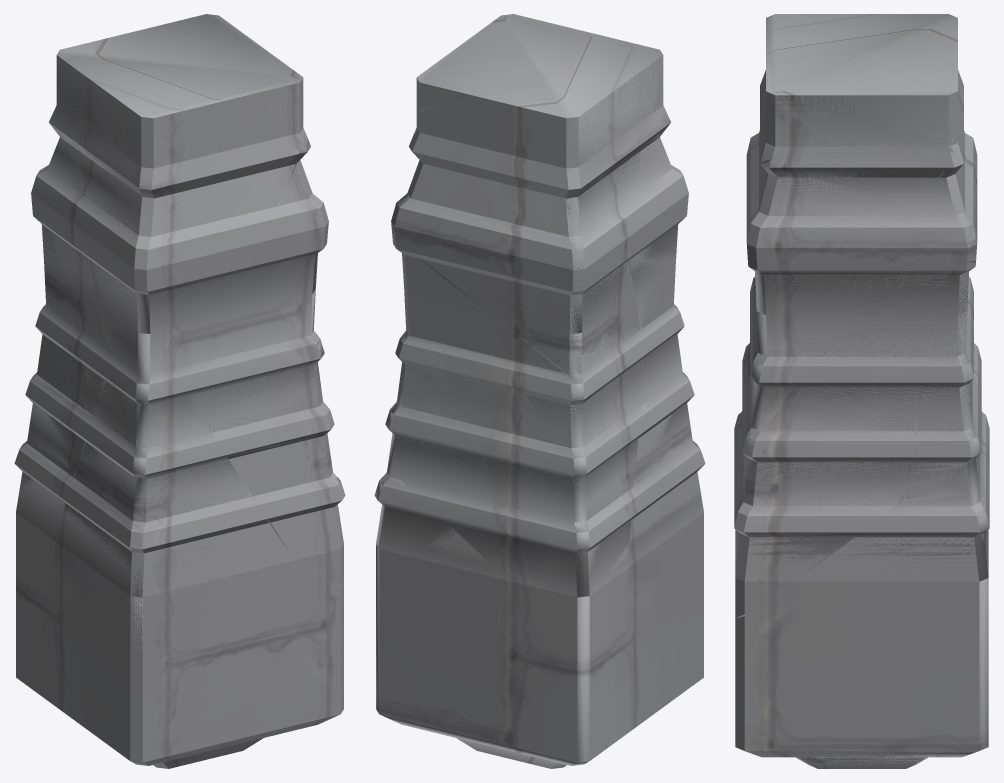
Rendered from SM_Column_Bottom_Broken.fbx.
3 renders of one model, left to right at view 1: azimuth 30°, elevation 25°; view 2: azimuth 150°, elevation 25°; view 3: azimuth 270°, elevation 25°, orthographic. The views are drawn at different scales.
Visible parts, largest first — view 1: SM_Column_Bottom_Broken, SM_Column_Bottom_Broken_03, SM_Column_Bottom_Broken_02, SM_Column_Bottom_Broken_01, SM_Column_Bottom_Broken_05, SM_Column_Bottom_Broken_04, SM_Column_Bottom_Broken_06; view 2: SM_Column_Bottom_Broken, SM_Column_Bottom_Broken_04, SM_Column_Bottom_Broken_06, SM_Column_Bottom_Broken_02, SM_Column_Bottom_Broken_03, SM_Column_Bottom_Broken_05; view 3: SM_Column_Bottom_Broken, SM_Column_Bottom_Broken_05, SM_Column_Bottom_Broken_01, SM_Column_Bottom_Broken_02, SM_Column_Bottom_Broken_06, SM_Column_Bottom_Broken_04, SM_Column_Bottom_Broken_03.
Part boxes in pixels (left/top/right/bottom): SM_Column_Bottom_Broken: left=15, top=14, right=343, bottom=766; SM_Column_Bottom_Broken_03: left=43, top=371, right=316, bottom=765; SM_Column_Bottom_Broken_02: left=67, top=71, right=307, bottom=394; SM_Column_Bottom_Broken_01: left=184, top=141, right=345, bottom=594; SM_Column_Bottom_Broken_05: left=44, top=578, right=343, bottom=768; SM_Column_Bottom_Broken_04: left=31, top=30, right=142, bottom=368; SM_Column_Bottom_Broken_06: left=14, top=327, right=104, bottom=580; SM_Column_Bottom_Broken: left=374, top=14, right=703, bottom=768; SM_Column_Bottom_Broken_04: left=391, top=95, right=650, bottom=375; SM_Column_Bottom_Broken_06: left=385, top=236, right=650, bottom=635; SM_Column_Bottom_Broken_02: left=415, top=55, right=688, bottom=343; SM_Column_Bottom_Broken_03: left=617, top=323, right=705, bottom=694; SM_Column_Bottom_Broken_05: left=378, top=472, right=676, bottom=739; SM_Column_Bottom_Broken: left=734, top=14, right=989, bottom=768; SM_Column_Bottom_Broken_05: left=735, top=495, right=989, bottom=768; SM_Column_Bottom_Broken_01: left=734, top=160, right=957, bottom=617; SM_Column_Bottom_Broken_02: left=746, top=59, right=957, bottom=213; SM_Column_Bottom_Broken_06: left=905, top=262, right=981, bottom=499; SM_Column_Bottom_Broken_04: left=932, top=14, right=977, bottom=261; SM_Column_Bottom_Broken_03: left=734, top=346, right=747, bottom=553.
Bounding box in the file's own units: 0.3598 × 1.08 × 0.3598.
